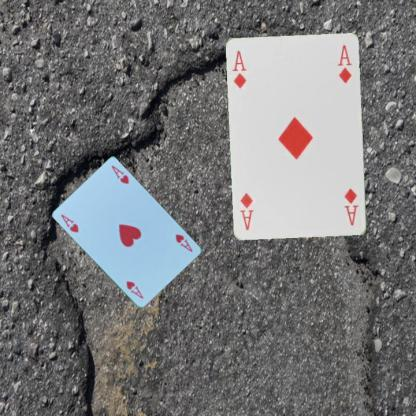Ad: (230, 48, 248, 90), (342, 186, 360, 227)
Ah: (58, 211, 80, 234), (173, 231, 194, 253)
